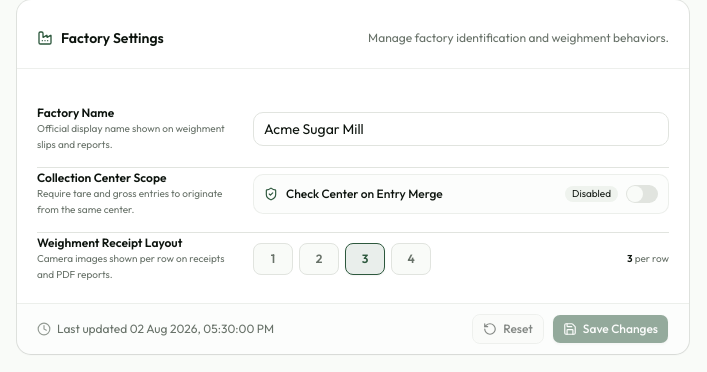
it: SettingsView Component › allows Admin to reset modified fields back to original factory values
Replace the text in the field showing "Acme Sugar Mill" with "Temporary Edit" at (461, 129), box [253,112,669,146]
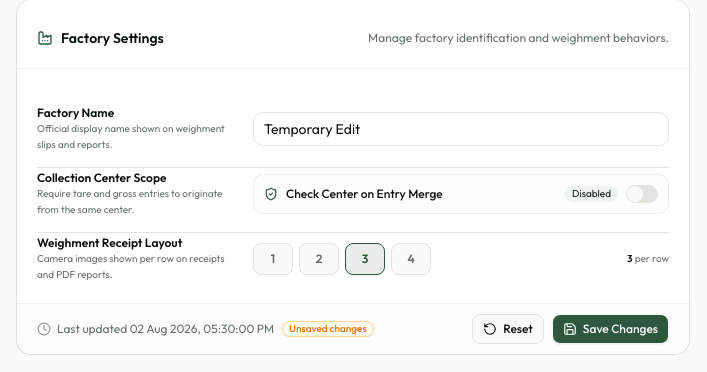
Check: the button "Reset" is enabled
Click the button "Reset" at (508, 329), box [472,314,544,344]
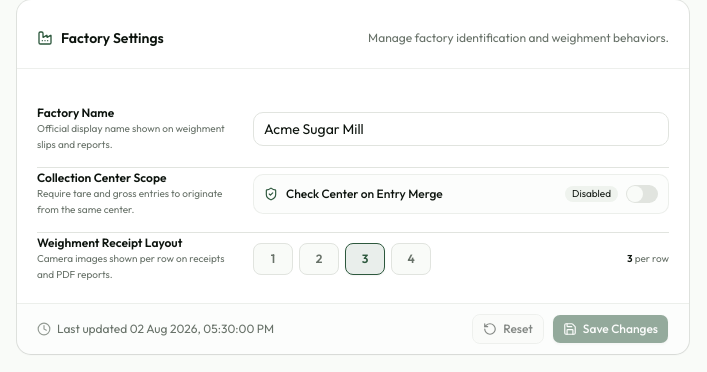
Check: the field showing "Acme Sugar Mill" is shown, box [253,112,669,146]
Check: the text "Unsaved changes" is gone
